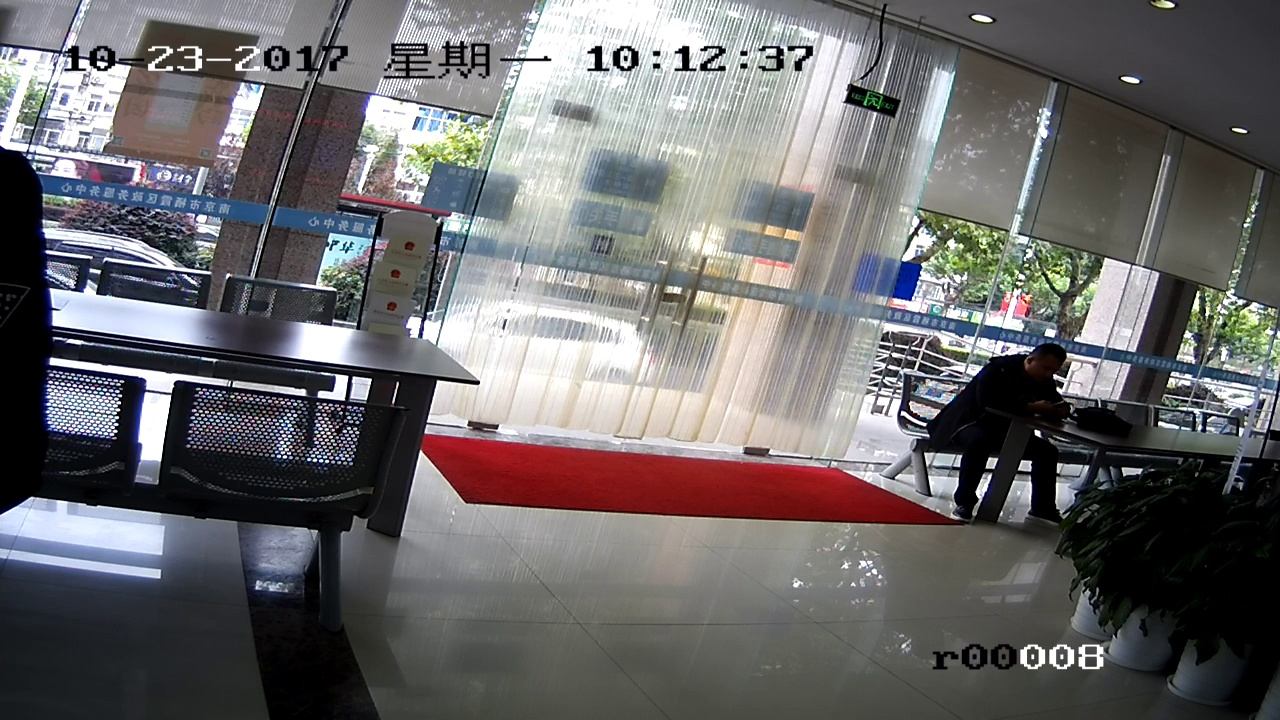chair: (170, 384, 380, 635)
person: (943, 330, 1066, 521)
pot: (1090, 468, 1173, 665), (1193, 491, 1264, 712)
